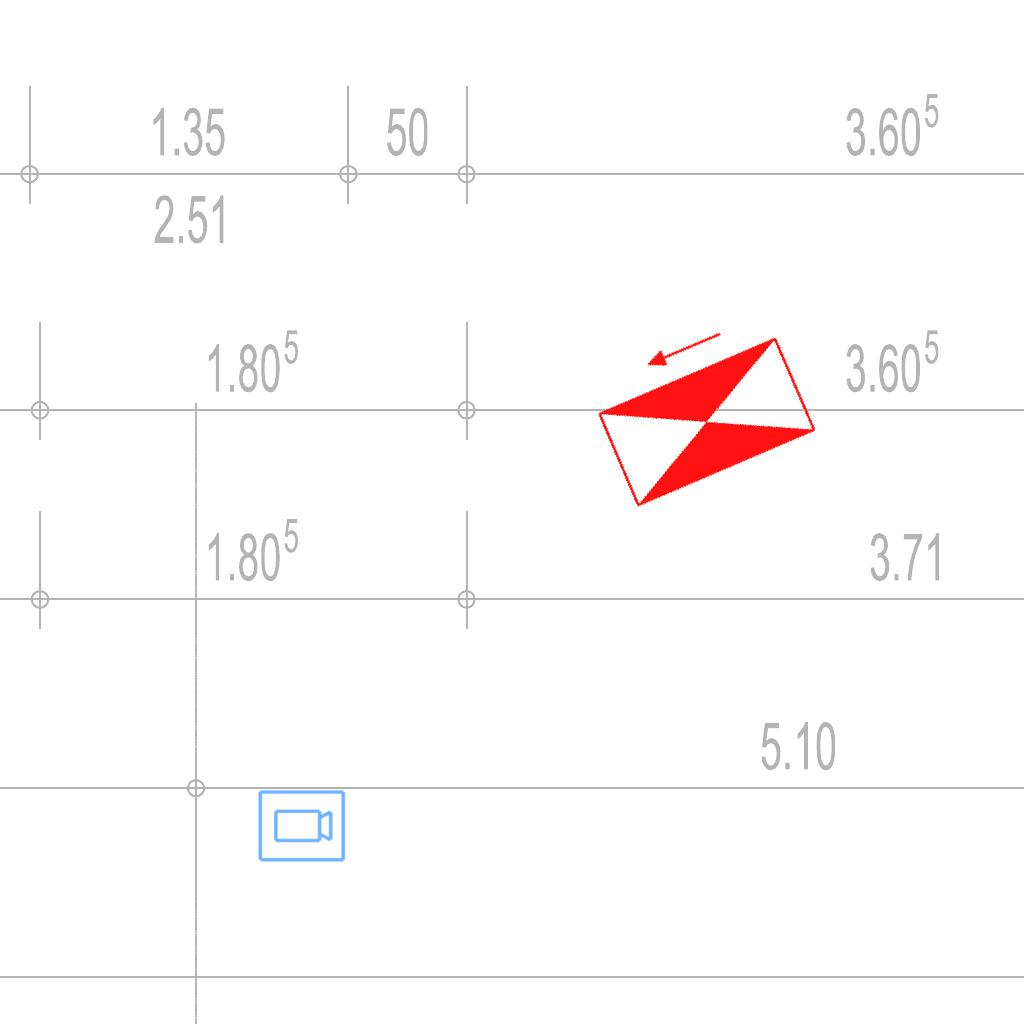Fluchtwegpiktogramm: (576, 298, 825, 516)
KFO_Kamera_mit_Festobjektiv: (256, 788, 347, 865)
